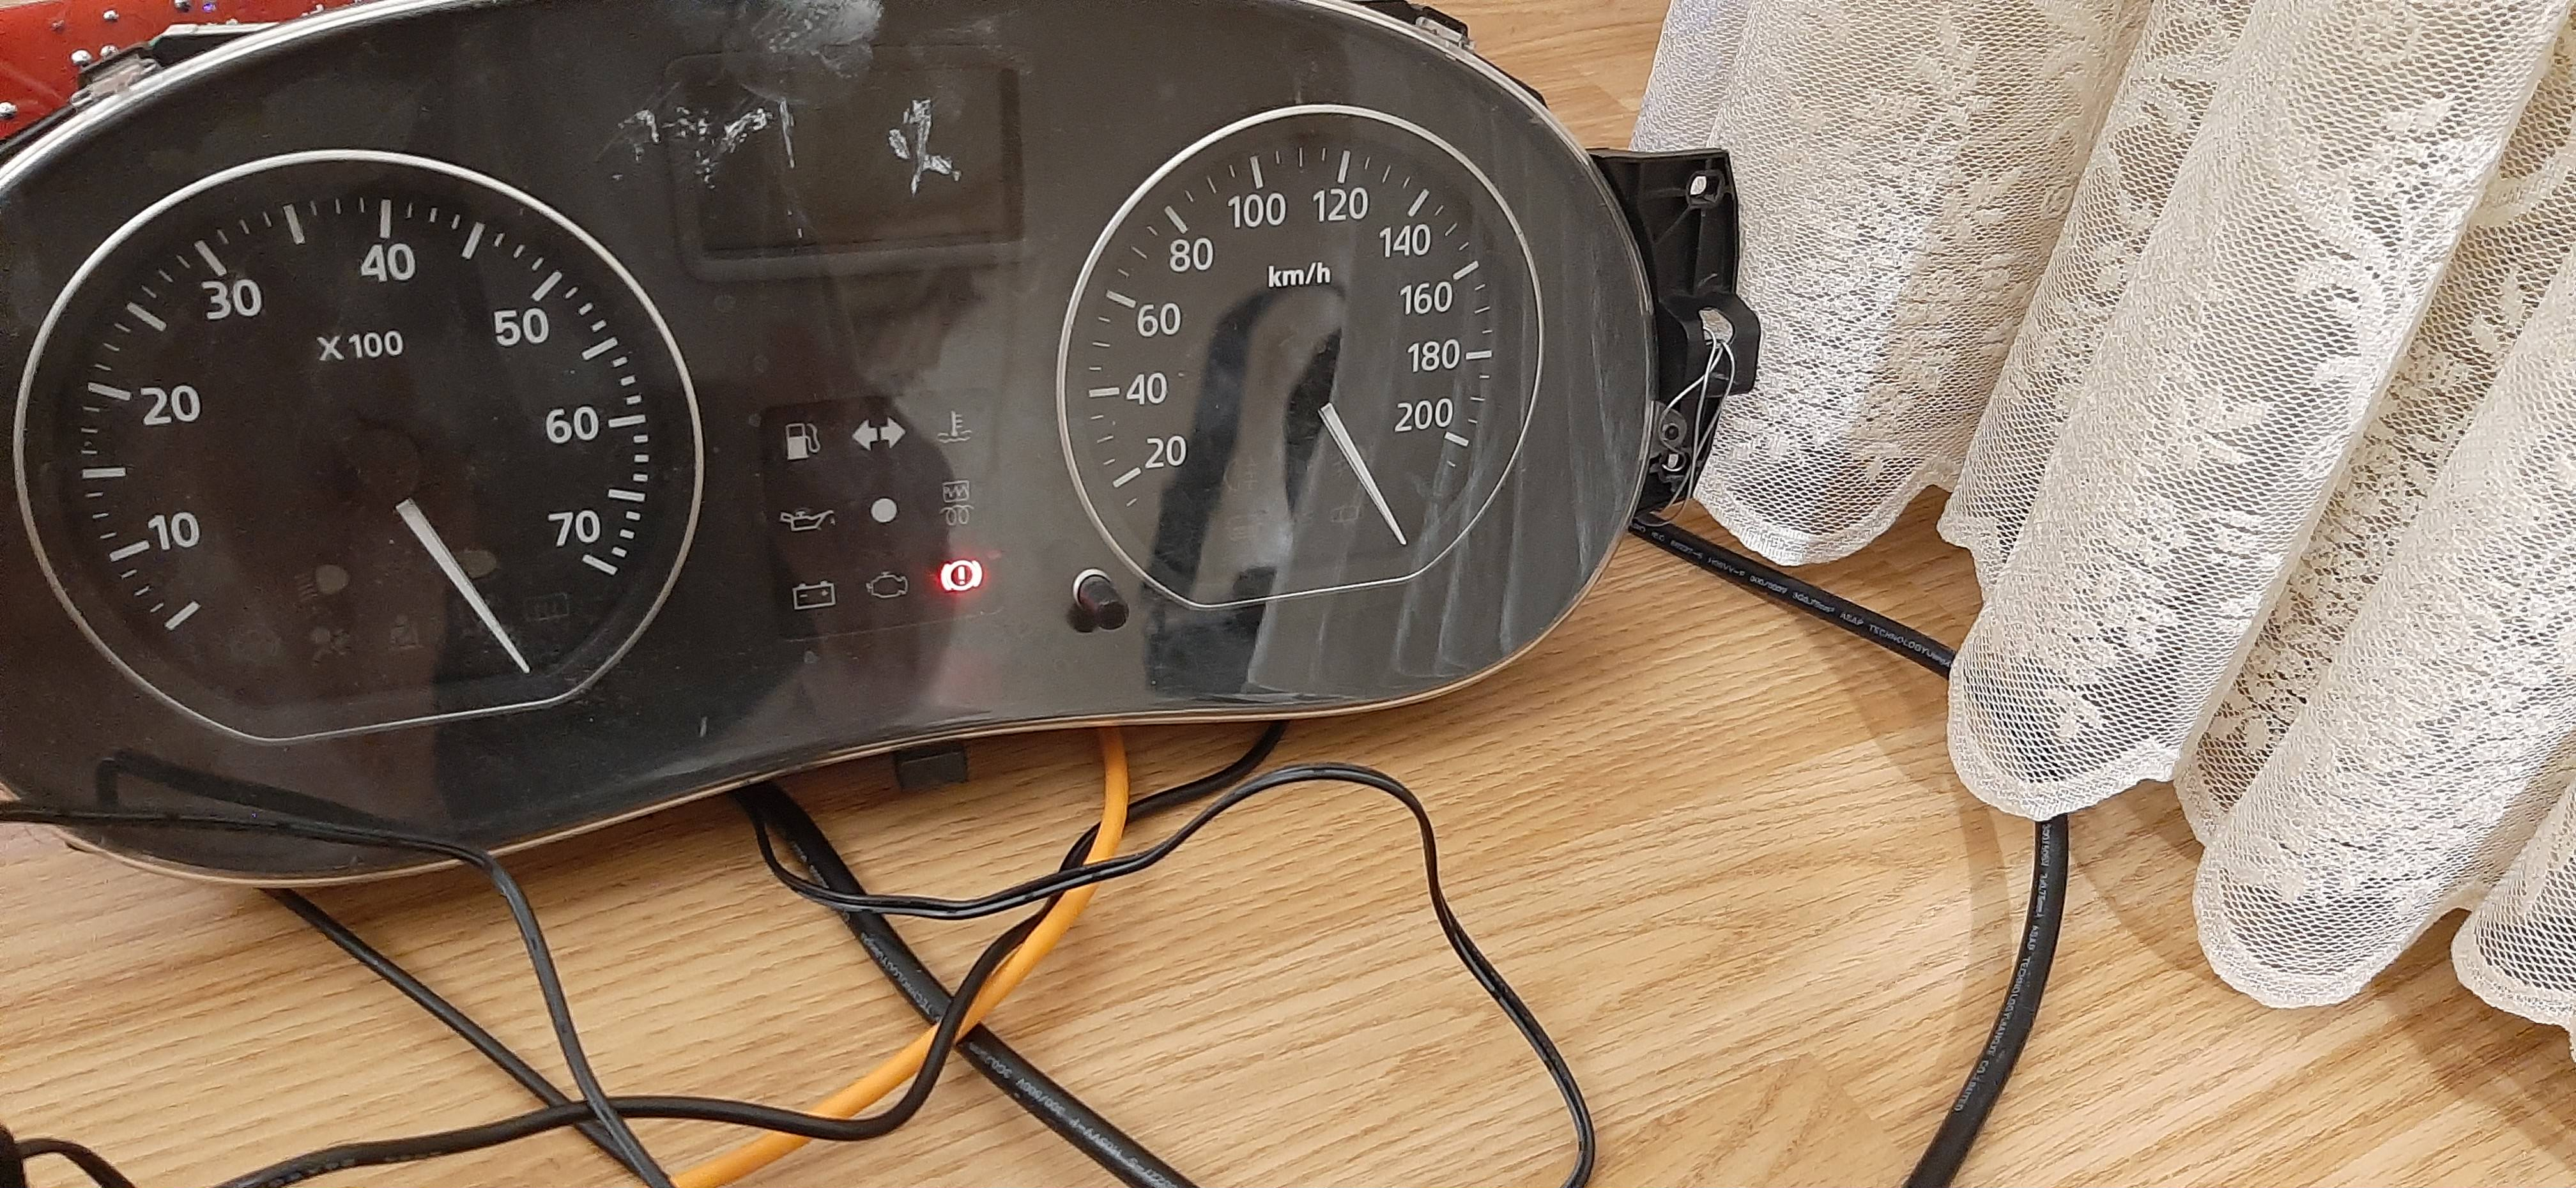brake21: (940, 559, 982, 593)
